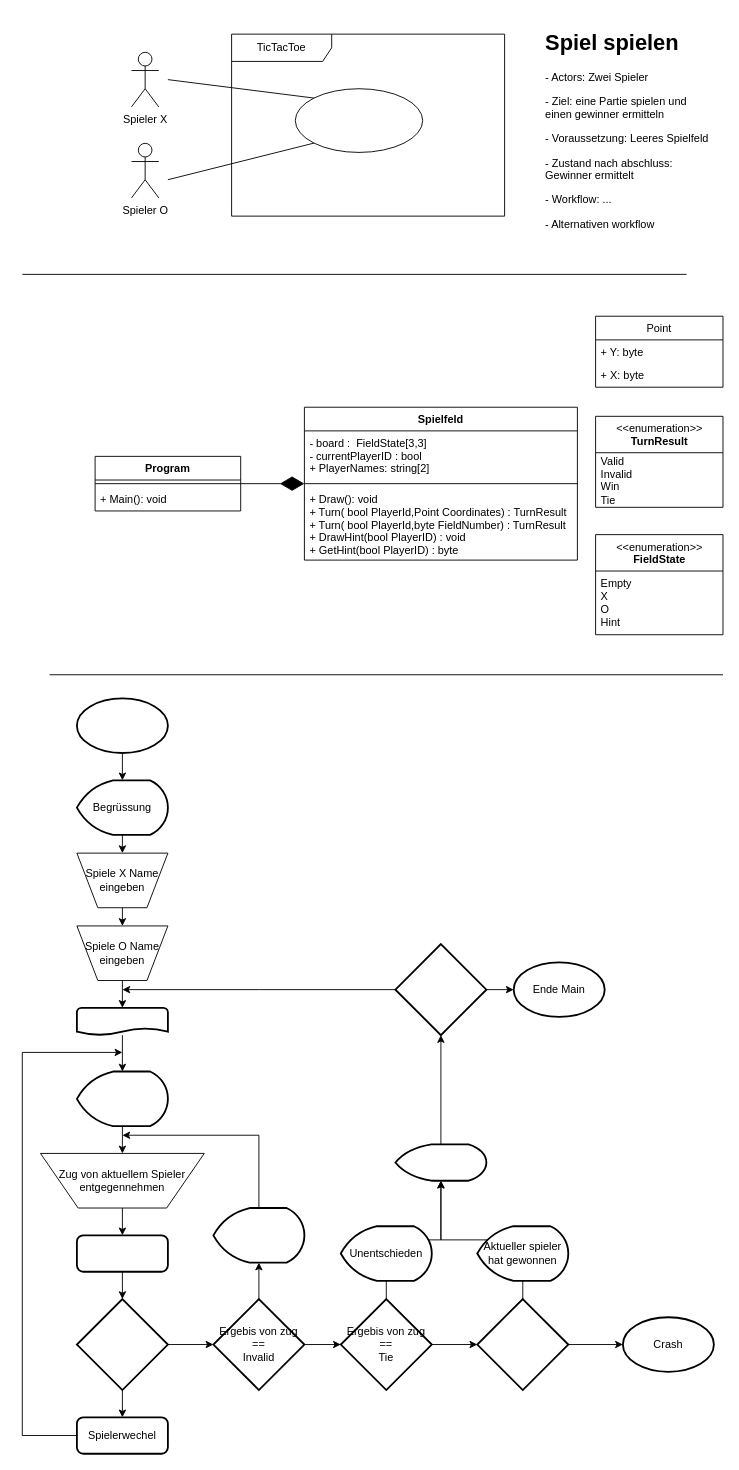
Image size: 739x1470. Some labels were removed from this diagram. Here are the shapes that lost their labels. From the top down, the centre of each, then its label:
At point (358, 120): "Spiel spielen".
At point (122, 725): "Main Start".
At point (440, 989): "Nutzereingabe == y".
At point (122, 1021): "Startspieler ermitteln".
At point (122, 1098): "Spielfeld anzeigen".
At point (440, 1162): "nochmal?".
At point (122, 1253): "Zug durchführen".
At point (258, 1235): "Fehler ausgeben".
At point (122, 1344): "Ergebis von zug == Valid".
At point (522, 1344): "Ergebis von zug == Win".
